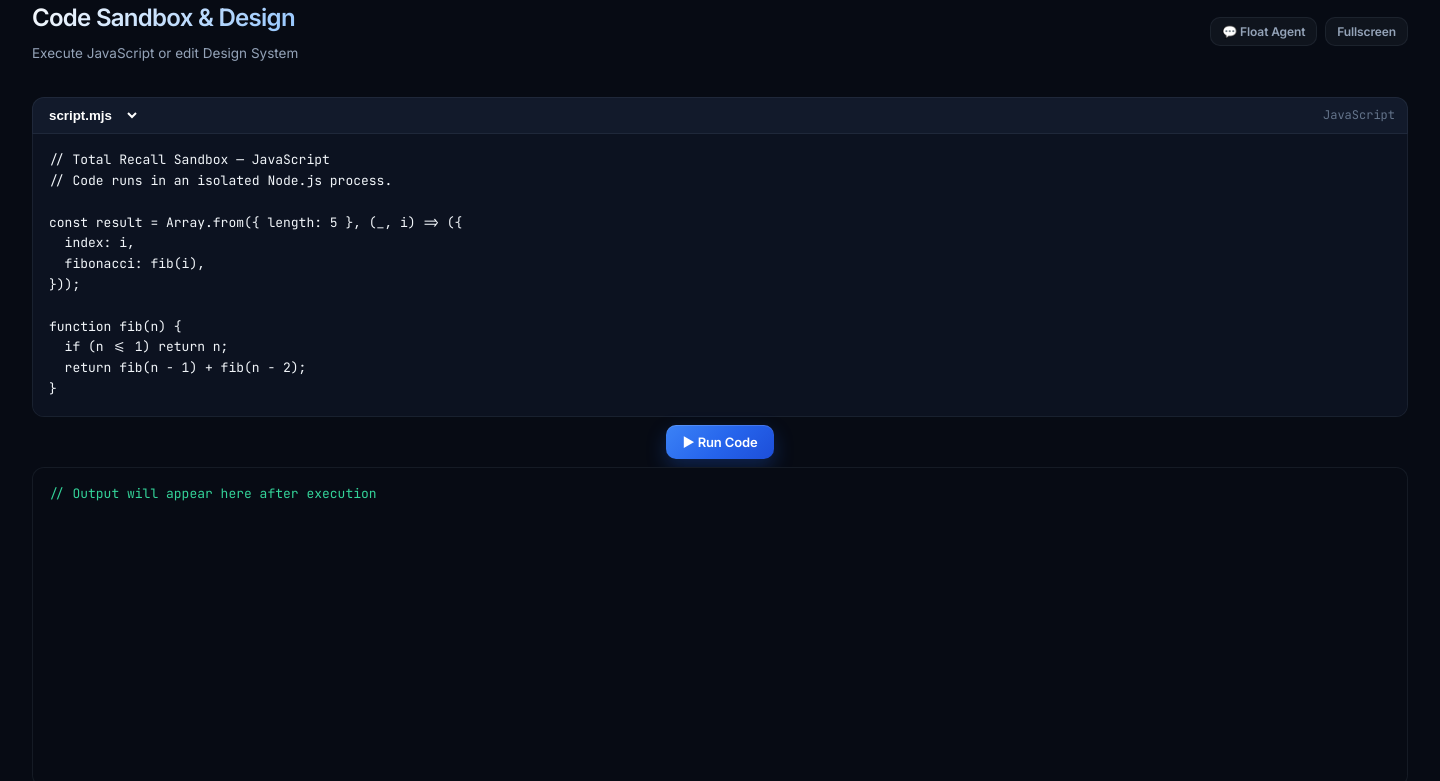
it: SandboxPage › can execute code and display output
Click the button "▶ Run Code".
click(720, 442)  # box 666,425 -> 774,459
(page scrolled)
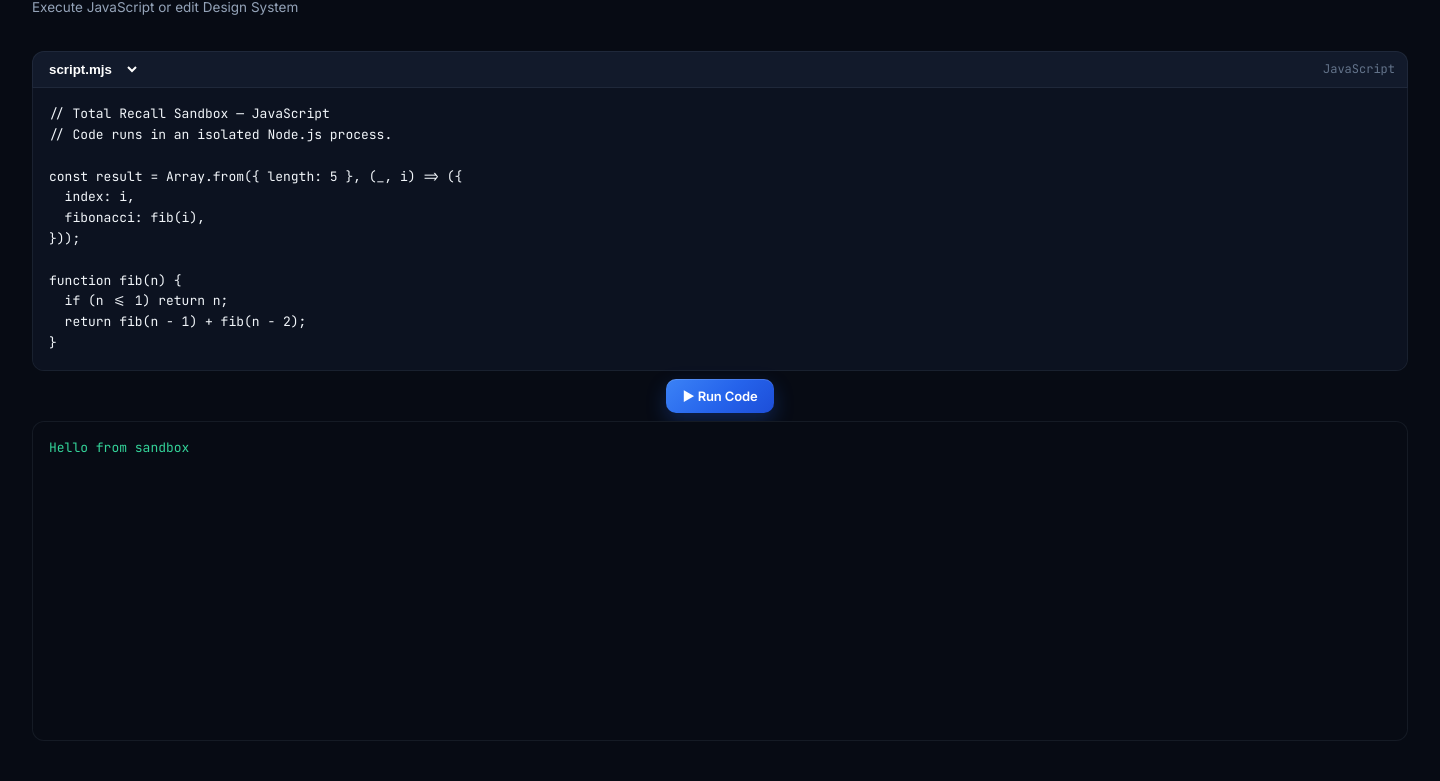
Expected: the button "Running" is shown, 666,379 -> 774,413
Now the text "Hello from sandbox" is shown, box 32,421 -> 1408,741
